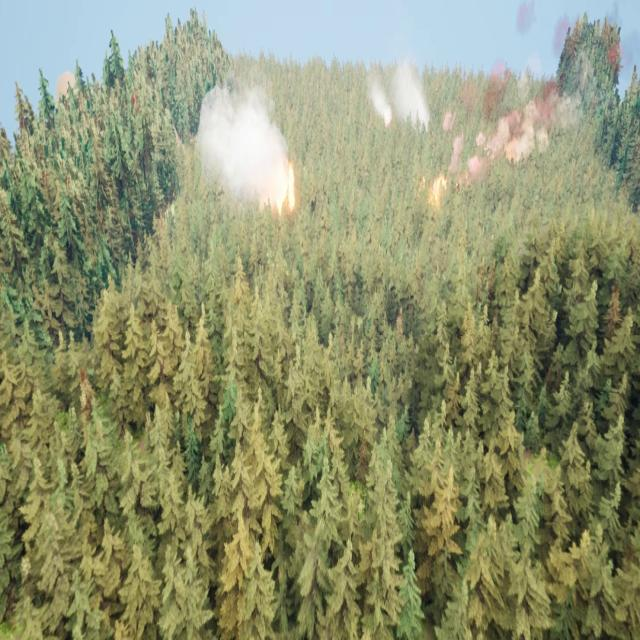fire: (274, 162, 303, 212), (427, 178, 448, 208)
smoke: (444, 66, 554, 194), (198, 85, 282, 210), (399, 59, 433, 128), (365, 73, 396, 128)
